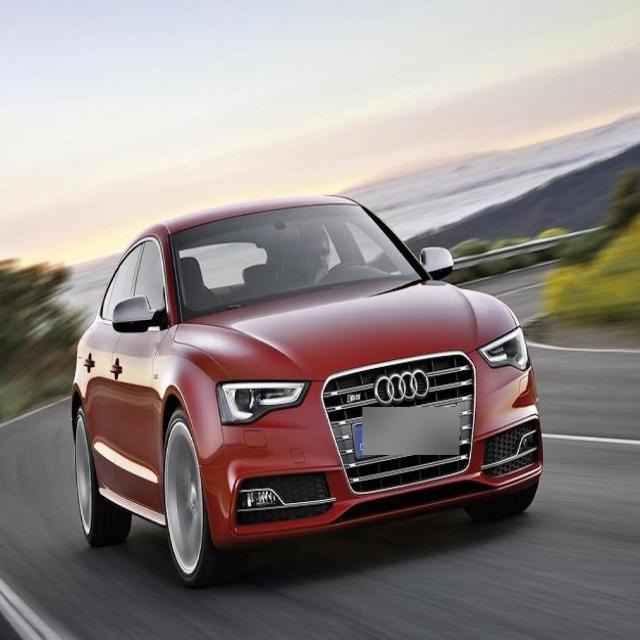front_bumper: (205, 410, 545, 546)
front_glass: (169, 201, 424, 324)
front_left_side_light: (476, 325, 531, 372)
front_left_side_mirror: (418, 245, 454, 280)
front_right_side_door: (109, 221, 171, 523)
front_right_side_light: (215, 380, 312, 426)
front_right_side_mirror: (112, 294, 169, 336)
